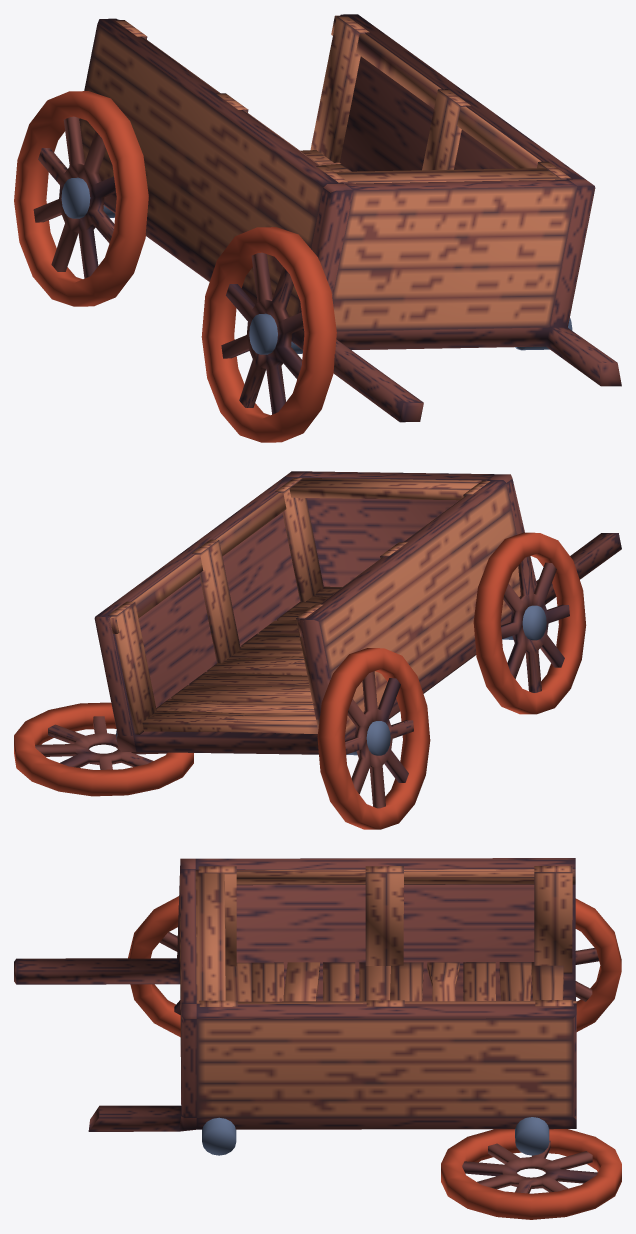
File: CarrocaQuebrada.fbx
3 views of the same model, one above another, from view 1: azimuth 30°, elevation 25°; view 2: azimuth 150°, elevation 25°; view 3: azimuth 270°, elevation 25° (orthographic). The views are drawn at different scales.
Parts seen in each view (by area): view 1: Carroca; view 2: Carroca; view 3: Carroca.
Boxes of the visible parts, x1,y1,x2,y2 form: Carroca: (14,14,621,442); Carroca: (14,471,621,829); Carroca: (14,858,621,1219).
Bounding box in the file's own units: 285 × 154 × 403.
